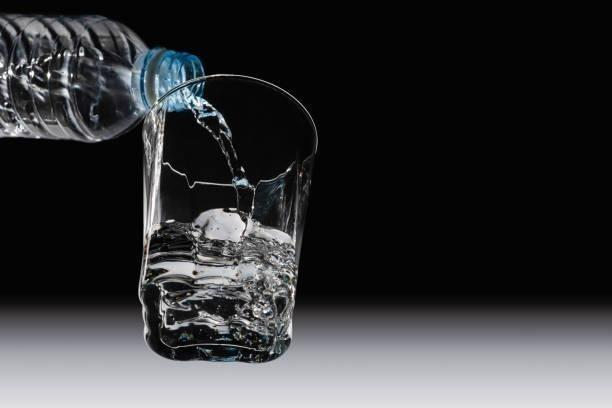bottle-plastic: (0, 3, 207, 148)
glass-normal: (134, 72, 320, 366)
